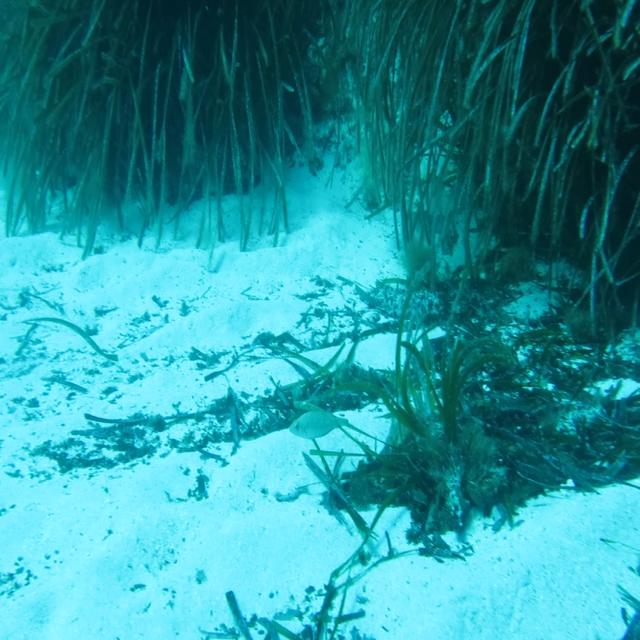BN: (288, 408, 349, 440)
vegetation: (327, 0, 639, 175), (0, 0, 293, 172), (399, 345, 570, 489), (392, 178, 640, 272), (610, 503, 640, 640), (284, 367, 384, 401)
